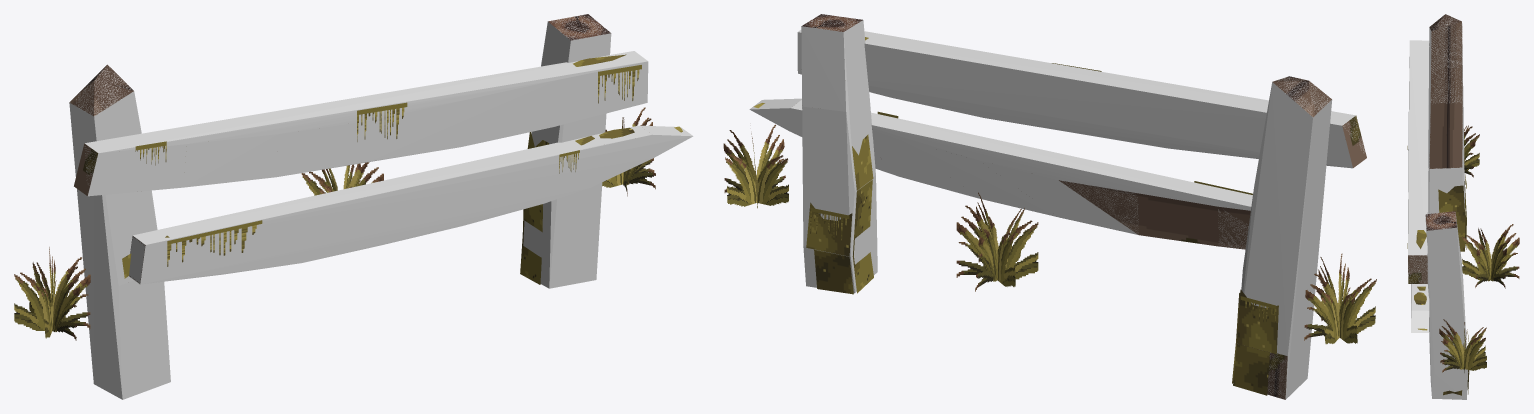
File: SM_SW19_WaterFenceRails_Parts.fbx
The picture shows the model from 3 angles, left to right: view 1: azimuth 30°, elevation 25°; view 2: azimuth 150°, elevation 25°; view 3: azimuth 270°, elevation 25°; orthographic projection. The views are drawn at different scales.
Parts seen in each view (by area): view 1: SW19a_Rail_1_COL, SW19a_Rail_2_COL, SW19a_Post_1_COL, SW19a_Post_2_COL, SW19a_Grass, SW19a_Post_2, SW19a_Post_1, SW19a_Rail_1, SW19a_Rail_2; view 2: SW19a_Rail_1_COL, SW19a_Rail_2_COL, SW19a_Post_1_COL, SW19a_Post_2_COL, SW19a_Grass, SW19a_Rail_2, SW19a_Post_2, SW19a_Post_1, SW19a_Rail_1; view 3: SW19a_Post_1, SW19a_Post_2_COL, SW19a_Rail_1_COL, SW19a_Grass, SW19a_Post_1_COL, SW19a_Rail_2_COL, SW19a_Rail_1, SW19a_Post_2, SW19a_Rail_2.
Boxes of the visible parts, bbox=[...] form: SW19a_Rail_1_COL: bbox=[84, 51, 648, 196]; SW19a_Rail_2_COL: bbox=[129, 125, 693, 284]; SW19a_Post_1_COL: bbox=[69, 67, 170, 399]; SW19a_Post_2_COL: bbox=[523, 15, 611, 288]; SW19a_Grass: bbox=[14, 65, 655, 340]; SW19a_Post_2: bbox=[520, 14, 610, 284]; SW19a_Post_1: bbox=[69, 64, 133, 116]; SW19a_Rail_1: bbox=[74, 54, 626, 195]; SW19a_Rail_2: bbox=[122, 126, 682, 283]; SW19a_Rail_1_COL: bbox=[797, 30, 1365, 168]; SW19a_Rail_2_COL: bbox=[749, 98, 1252, 248]; SW19a_Post_1_COL: bbox=[1237, 77, 1332, 399]; SW19a_Post_2_COL: bbox=[801, 14, 877, 293]; SW19a_Grass: bbox=[723, 63, 1376, 344]; SW19a_Rail_2: bbox=[753, 103, 1250, 249]; SW19a_Post_2: bbox=[801, 14, 873, 294]; SW19a_Post_1: bbox=[1232, 76, 1331, 399]; SW19a_Rail_1: bbox=[865, 37, 1366, 167]; SW19a_Post_1: bbox=[1429, 14, 1466, 251]; SW19a_Post_2_COL: bbox=[1425, 212, 1468, 399]; SW19a_Rail_1_COL: bbox=[1408, 40, 1429, 283]; SW19a_Grass: bbox=[1407, 125, 1519, 372]; SW19a_Post_1_COL: bbox=[1428, 14, 1465, 214]; SW19a_Rail_2_COL: bbox=[1411, 161, 1429, 332]; SW19a_Rail_1: bbox=[1408, 230, 1427, 283]; SW19a_Post_2: bbox=[1425, 211, 1469, 395]; SW19a_Rail_2: bbox=[1414, 286, 1427, 330].
Bounding box in the file's own units: 3.43 × 1.62 × 0.7523.
